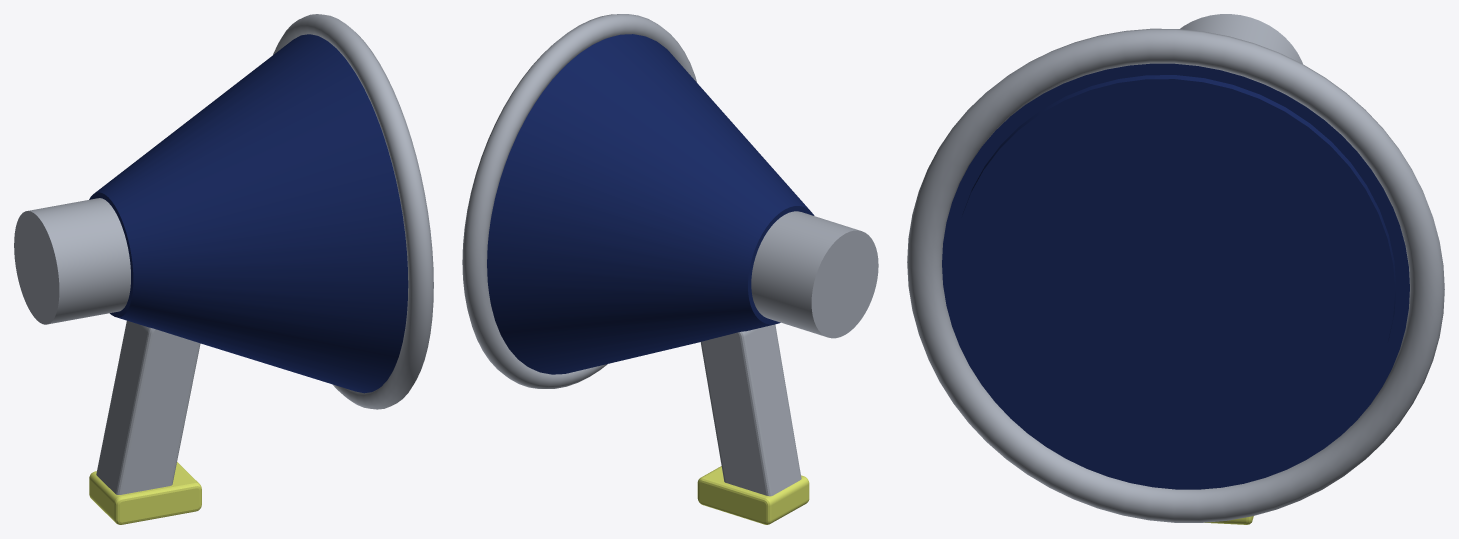
3 views of the same model, side by side, from view 1: azimuth 30°, elevation 25°; view 2: azimuth 150°, elevation 25°; view 3: azimuth 270°, elevation 25° (orthographic). The views are drawn at different scales.
Visible parts, largest first — view 1: megaphone tapered bell, hand grip, metal barrel, bell edge, machined plate; view 2: megaphone tapered bell, bell edge, metal barrel, hand grip, machined plate; view 3: metal barrel (×2), bell edge, megaphone tapered bell.
Boxes of the visible parts, left/top/right/bottom form: megaphone tapered bell: left=89, top=34, right=408, bottom=393; hand grip: left=96, top=320, right=200, bottom=494; metal barrel: left=14, top=198, right=130, bottom=324; bell edge: left=273, top=14, right=433, bottom=409; machined plate: left=89, top=462, right=201, bottom=524; megaphone tapered bell: left=487, top=34, right=814, bottom=374; bell edge: left=462, top=14, right=696, bottom=388; metal barrel: left=751, top=211, right=878, bottom=338; hand grip: left=700, top=324, right=801, bottom=496; machined plate: left=697, top=466, right=809, bottom=524; metal barrel (×2): left=954, top=14, right=1396, bottom=481; bell edge: left=907, top=28, right=1444, bottom=522; megaphone tapered bell: left=942, top=63, right=1409, bottom=489.
Bounding box in the file's own units: 1.31 × 1.69 × 1.38.
